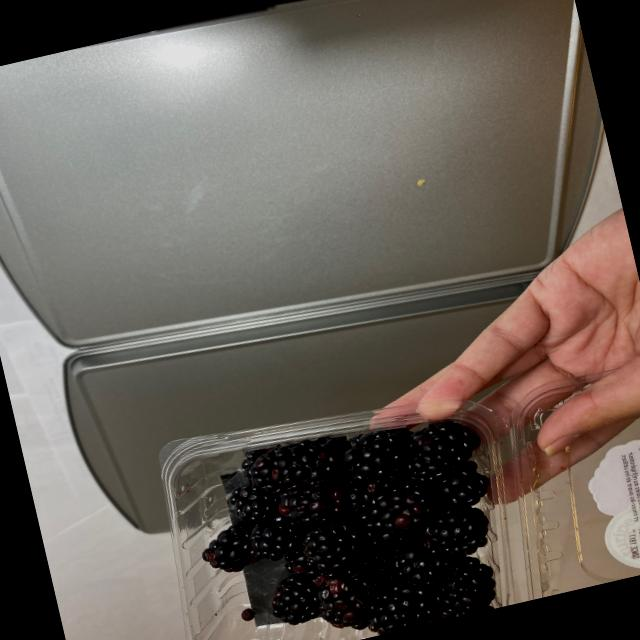blackberries: (149, 399, 527, 640)
